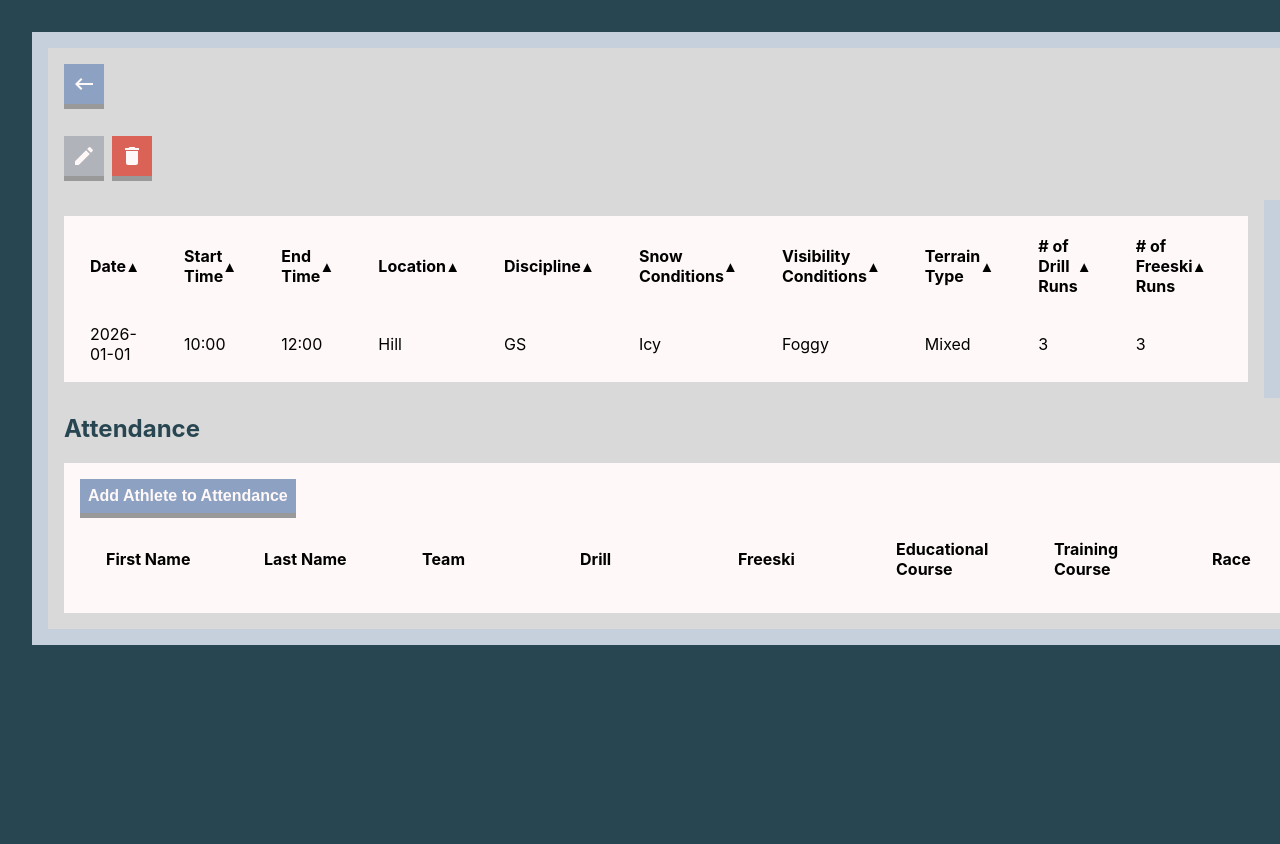
Test: Session Page - testing edit session button leads to pop-up opening › opens edit session popup when button is clicked
Click the button with test id "edit-button" at [84, 156], box [64,136,104,176]
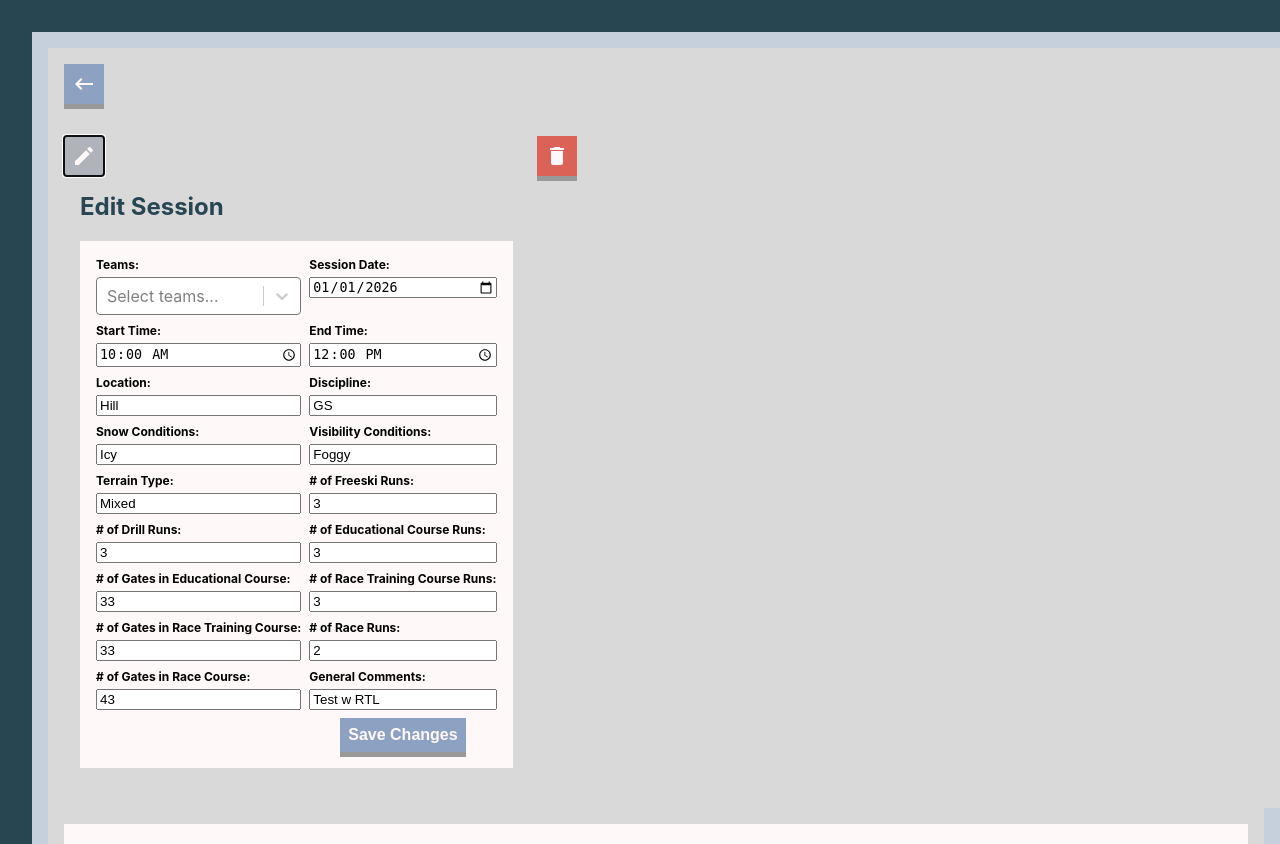
Expected: the element with test id "edit-popup" is shown, [64,176,528,784]
